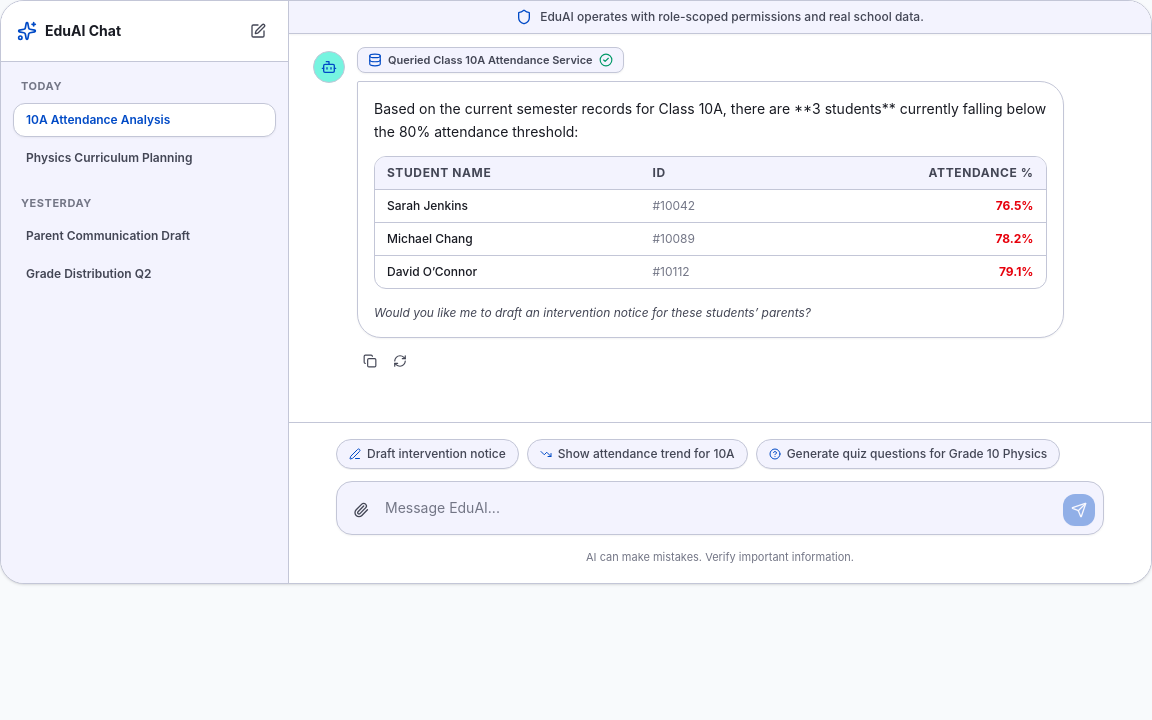
Test: EduAiPage (EduAI Assistant Workspace Stitch Clone) › copies message to clipboard and confirms with toast
(page scrolled)
Click the button titled "Copy".
click(370, 361)  # box x1=357 y1=348 x2=383 y2=374
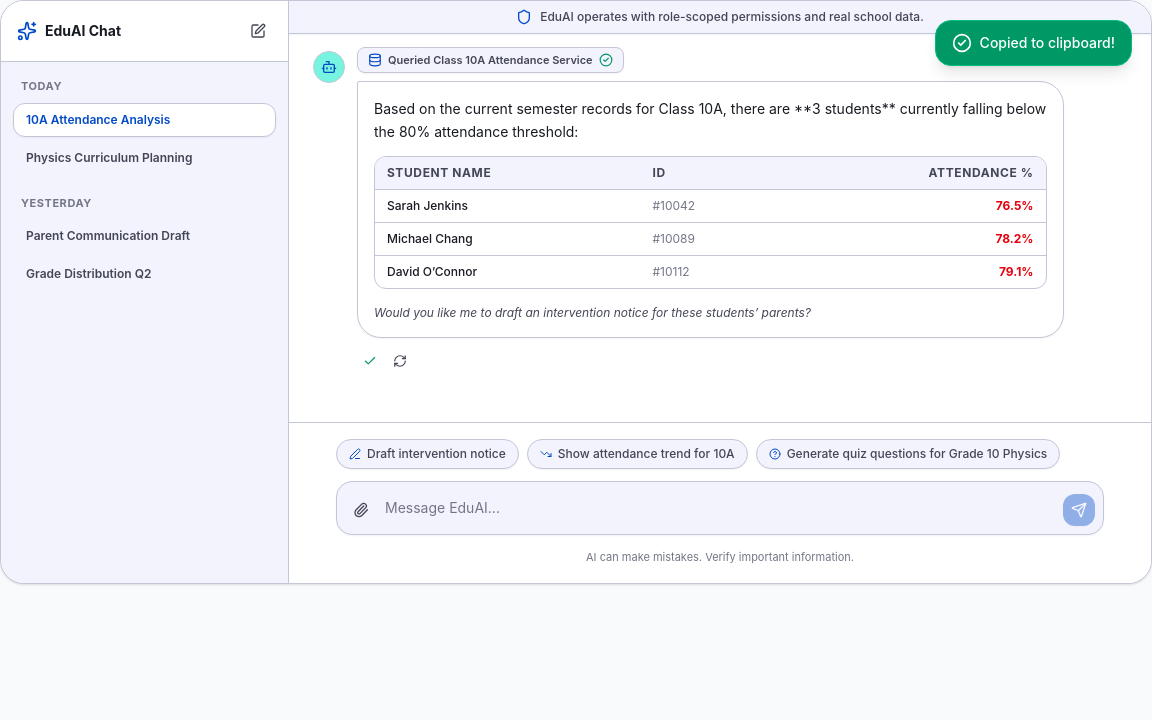
Expected: the text "Copied to clipboard!" is shown, x1=980 y1=33 x2=1115 y2=53
